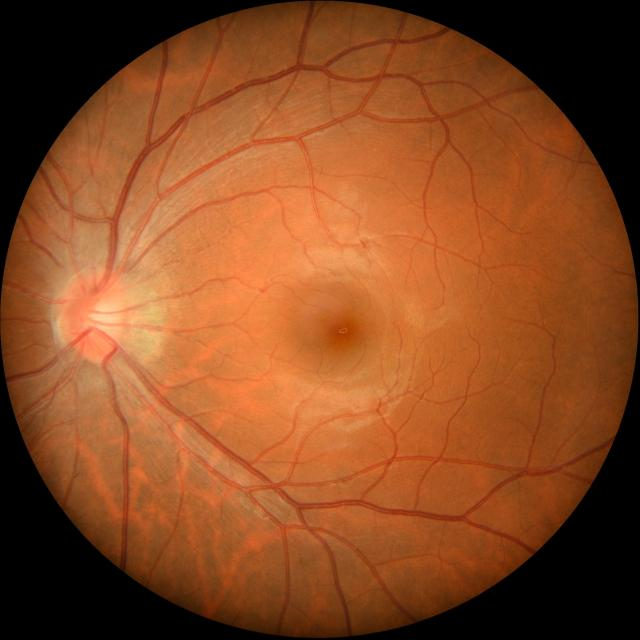OC: (86, 299, 114, 335)
OD: (60, 269, 128, 359)
